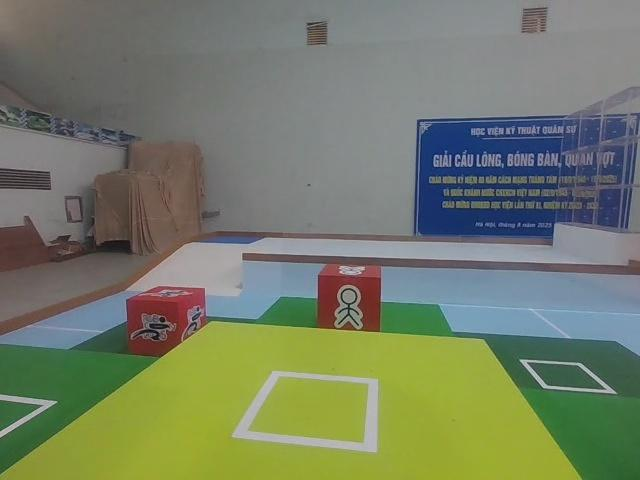R1: (124, 281, 209, 359)
R2 Real: (314, 259, 385, 336)
